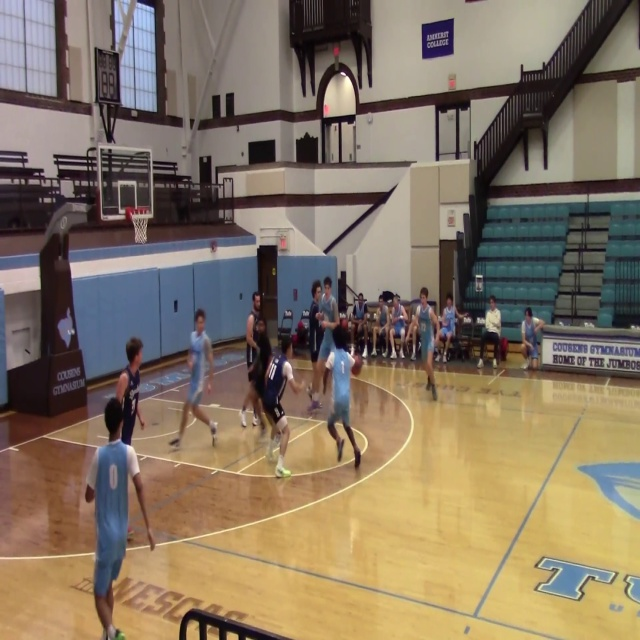Basketball: (350, 354, 363, 376)
